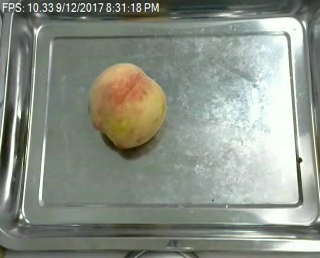Peach: (87, 61, 166, 150)
